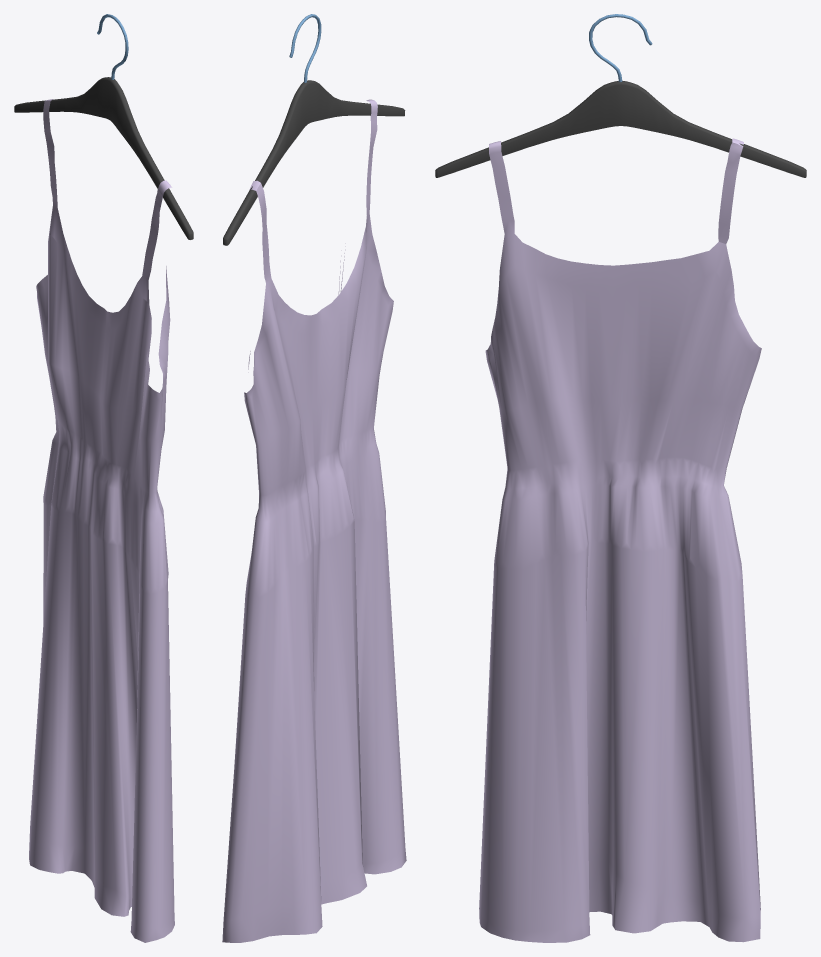
The picture shows the model from 3 angles, left to right: view 1: azimuth 30°, elevation 25°; view 2: azimuth 150°, elevation 25°; view 3: azimuth 270°, elevation 25°; orthographic projection. The views are drawn at different scales.
Parts seen in each view (by area): view 1: dress, Group002; view 2: dress, Group002; view 3: dress, Group002.
Part boxes in pixels (x1,y1,x2,y2): dress: [29, 99, 174, 942]; Group002: [14, 14, 193, 239]; dress: [222, 99, 406, 942]; Group002: [223, 14, 405, 245]; dress: [479, 138, 761, 942]; Group002: [435, 14, 806, 177].
Bounding box in the file's own units: 8.52 × 104 × 37.92.
